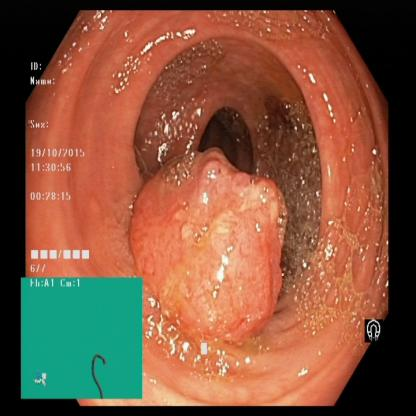Labels: (27, 55, 100, 281), (22, 276, 146, 402), (361, 311, 392, 345)
Polyps: (130, 169, 301, 333)
